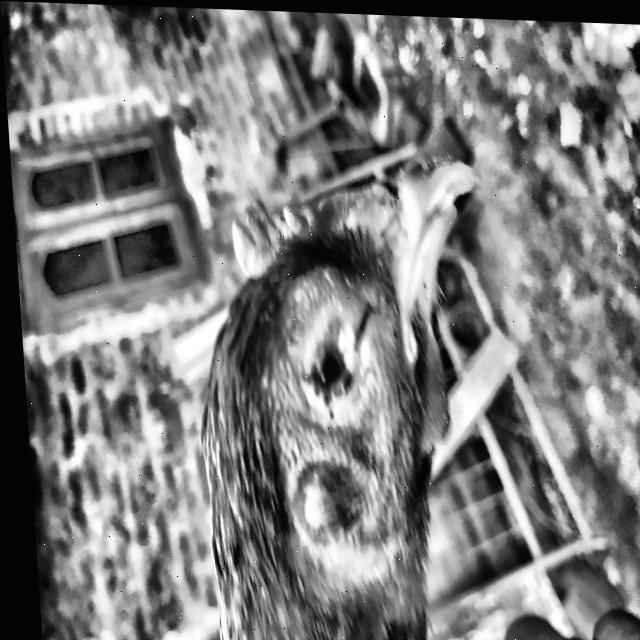Coryza: (160, 115, 622, 640)
